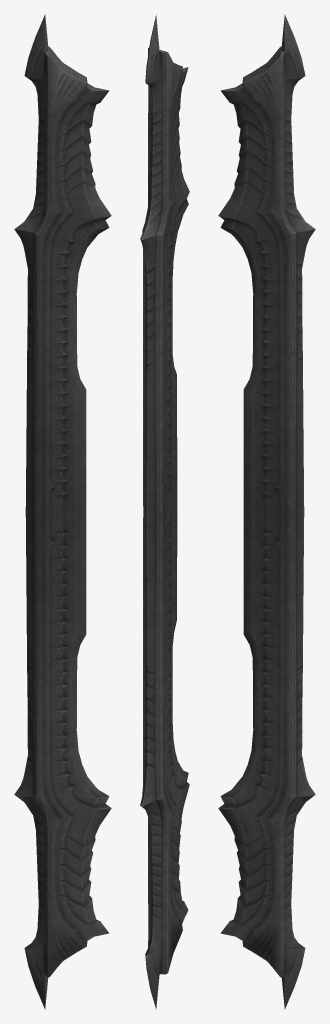
Rendered from bg_rad_kamen_pillar06a_sm_cjy.obj.
3 renders of one model, left to right at view 1: azimuth 90°, elevation 25°; view 2: azimuth 150°, elevation 25°; view 3: azimuth 270°, elevation 25°, orthographic.
Parts seen in each view (by area): view 1: bg_rad_kamen_pillar06a_sm_cjy_0; view 2: bg_rad_kamen_pillar06a_sm_cjy_0; view 3: bg_rad_kamen_pillar06a_sm_cjy_0.
Part boxes in pixels (box(x1,y1,x2,y2)): bg_rad_kamen_pillar06a_sm_cjy_0: box(14, 14, 111, 1009); bg_rad_kamen_pillar06a_sm_cjy_0: box(140, 14, 189, 1009); bg_rad_kamen_pillar06a_sm_cjy_0: box(218, 14, 315, 1009).
Size of the model in its own units: 0.1677 by 7.98 by 0.7083.
Materials: 1 (1 with a texture image).
